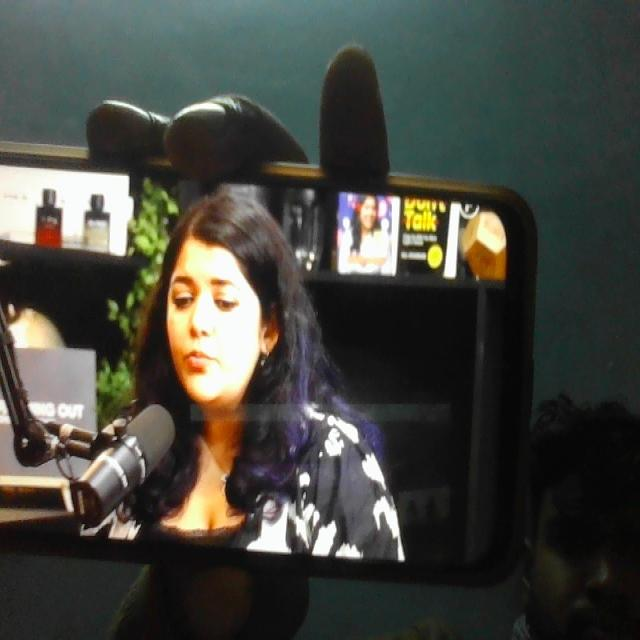fake: (149, 164, 282, 415)
